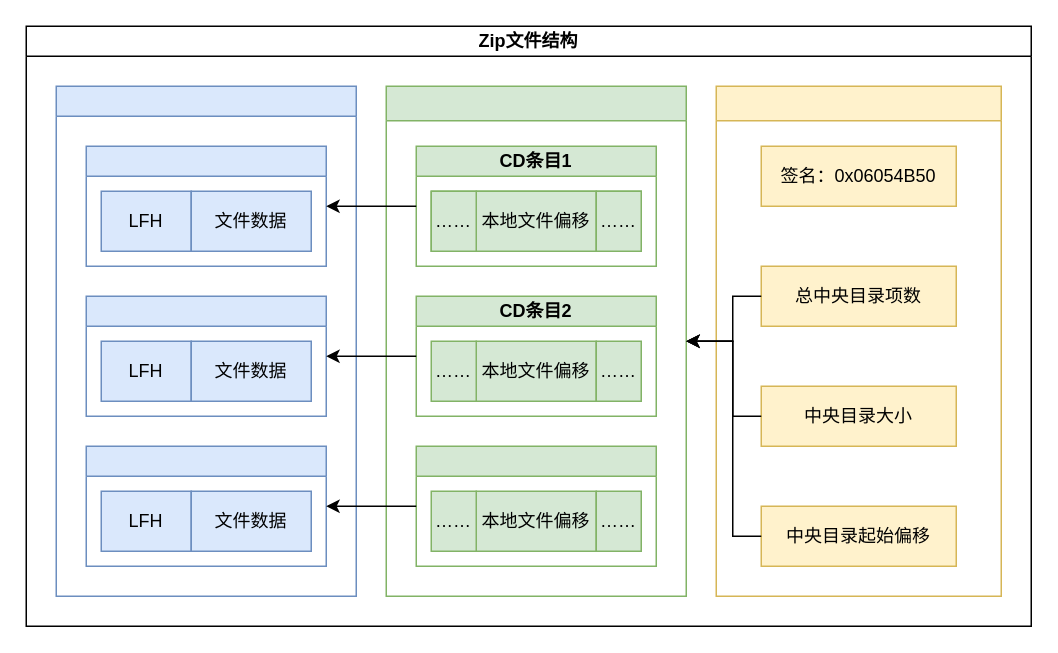
Image size: 1058x653. Some labels were removed from this diagram. The shapes that lost their labels are listed below. From the top down, each one's box as (x1, y1, x2, y2) in pixels, then its label:
(85, 145, 326, 266): 文件1
(55, 85, 356, 596): 文件数据区
(85, 295, 326, 416): 文件2
(385, 85, 686, 596): 中央目录区
(715, 85, 1001, 596): 中央目录结束记录
(85, 445, 326, 566): 文件n
(415, 445, 656, 566): CD条目n
